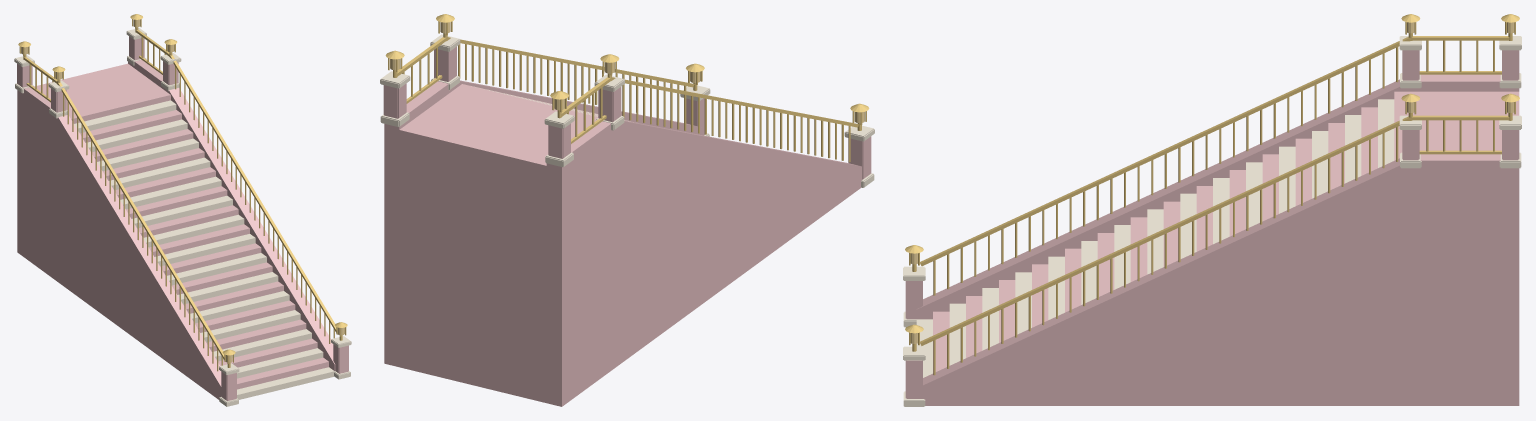
The model's file is HOB_Stairs_6m.fbx.
The picture shows the model from 3 angles, left to right: view 1: azimuth 30°, elevation 25°; view 2: azimuth 150°, elevation 25°; view 3: azimuth 270°, elevation 25°; orthographic projection. The views are drawn at different scales.
Visible parts, largest first — view 1: HOB_Stairs_6m; view 2: HOB_Stairs_6m; view 3: HOB_Stairs_6m.
Part boxes in pixels (x1,y1,x2,y2): HOB_Stairs_6m: [14, 14, 351, 406]; HOB_Stairs_6m: [380, 14, 874, 406]; HOB_Stairs_6m: [903, 14, 1521, 406].
Bounding box in the file's own units: 487 × 785 × 1427.
